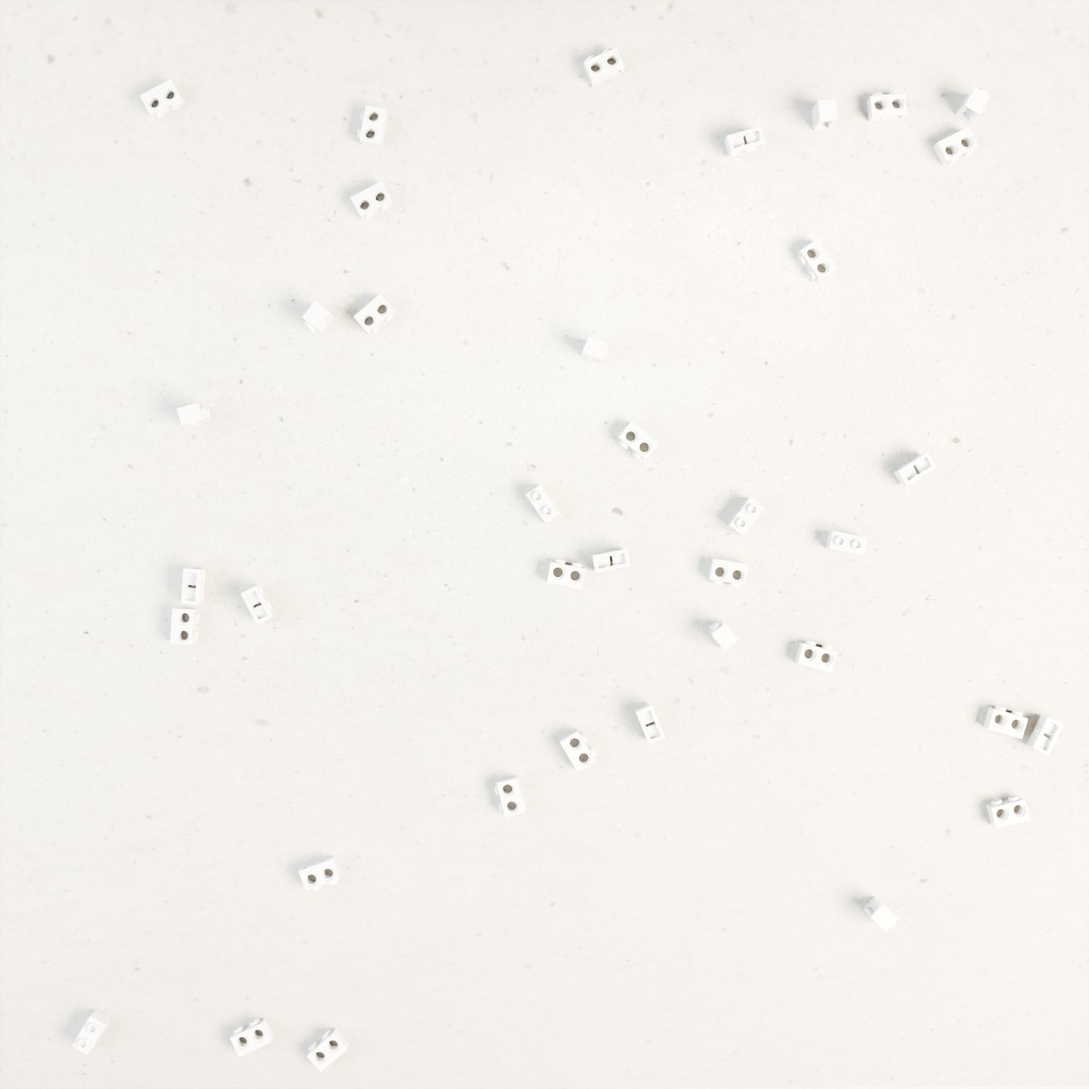lego: (307, 1028, 349, 1072), (797, 239, 838, 283), (140, 79, 185, 119), (933, 126, 979, 165), (72, 1009, 111, 1055), (353, 294, 396, 335), (230, 1018, 274, 1057), (350, 181, 393, 220), (618, 421, 659, 461), (559, 729, 597, 772), (1026, 714, 1064, 756), (584, 48, 625, 86), (893, 452, 937, 487), (983, 705, 1028, 739), (299, 856, 341, 892), (727, 497, 765, 536), (986, 795, 1030, 828), (241, 585, 276, 625), (795, 640, 837, 673), (955, 86, 991, 124), (526, 484, 560, 524), (724, 126, 766, 158), (494, 775, 526, 817), (357, 105, 388, 148), (635, 703, 666, 745), (863, 896, 898, 932), (867, 91, 907, 122), (547, 559, 586, 590), (708, 558, 748, 588), (170, 608, 200, 645), (302, 300, 334, 333), (825, 531, 868, 555), (592, 549, 631, 573), (708, 621, 739, 651), (181, 568, 206, 605), (812, 96, 838, 131), (176, 403, 211, 428), (581, 335, 611, 364)
